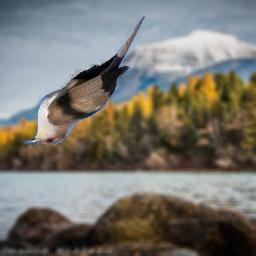Cuckoo: (21, 15, 145, 145)
